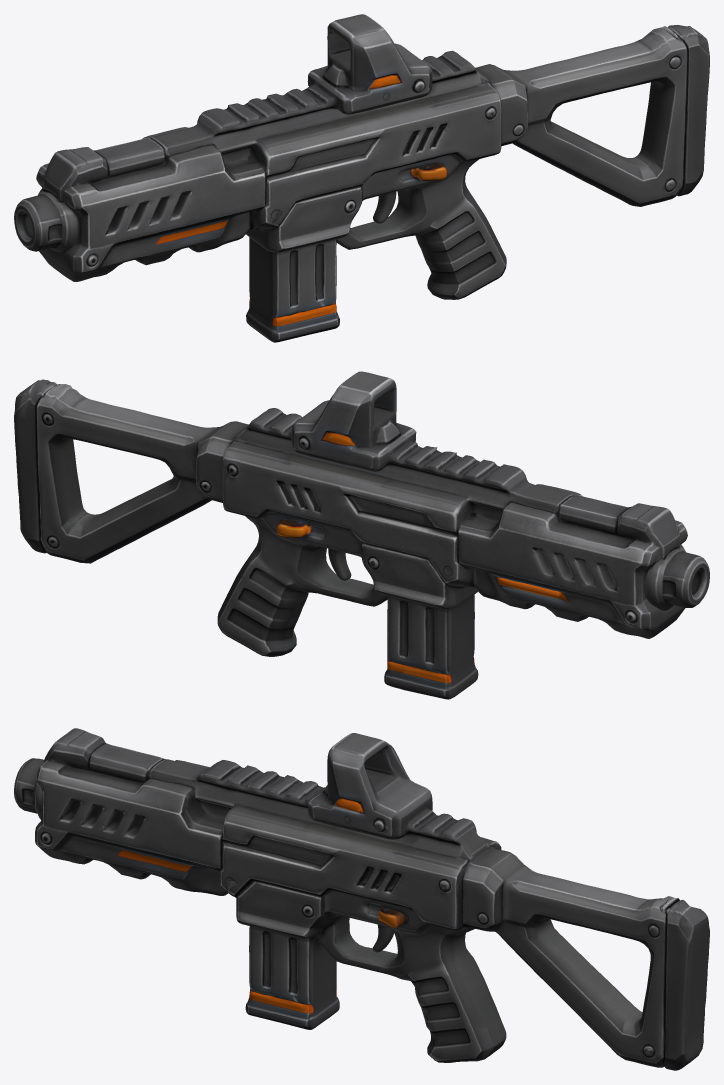
The model's file is futuristic_gun_3d_model.fbx.
The picture shows the model from 3 angles, top to bottom: view 1: azimuth 30°, elevation 25°; view 2: azimuth 150°, elevation 25°; view 3: azimuth 330°, elevation 25°; orthographic projection.
Visible parts, largest first — view 1: tripo_node_7d56cada; view 2: tripo_node_7d56cada; view 3: tripo_node_7d56cada.
Part boxes in pixels (x1,y1,x2,y2): tripo_node_7d56cada: (14,14,709,342); tripo_node_7d56cada: (14,371,709,699); tripo_node_7d56cada: (14,728,709,1070).
Bounding box in the file's own units: 98.03 × 40.54 × 12.67.
1 material, 1 textured.
